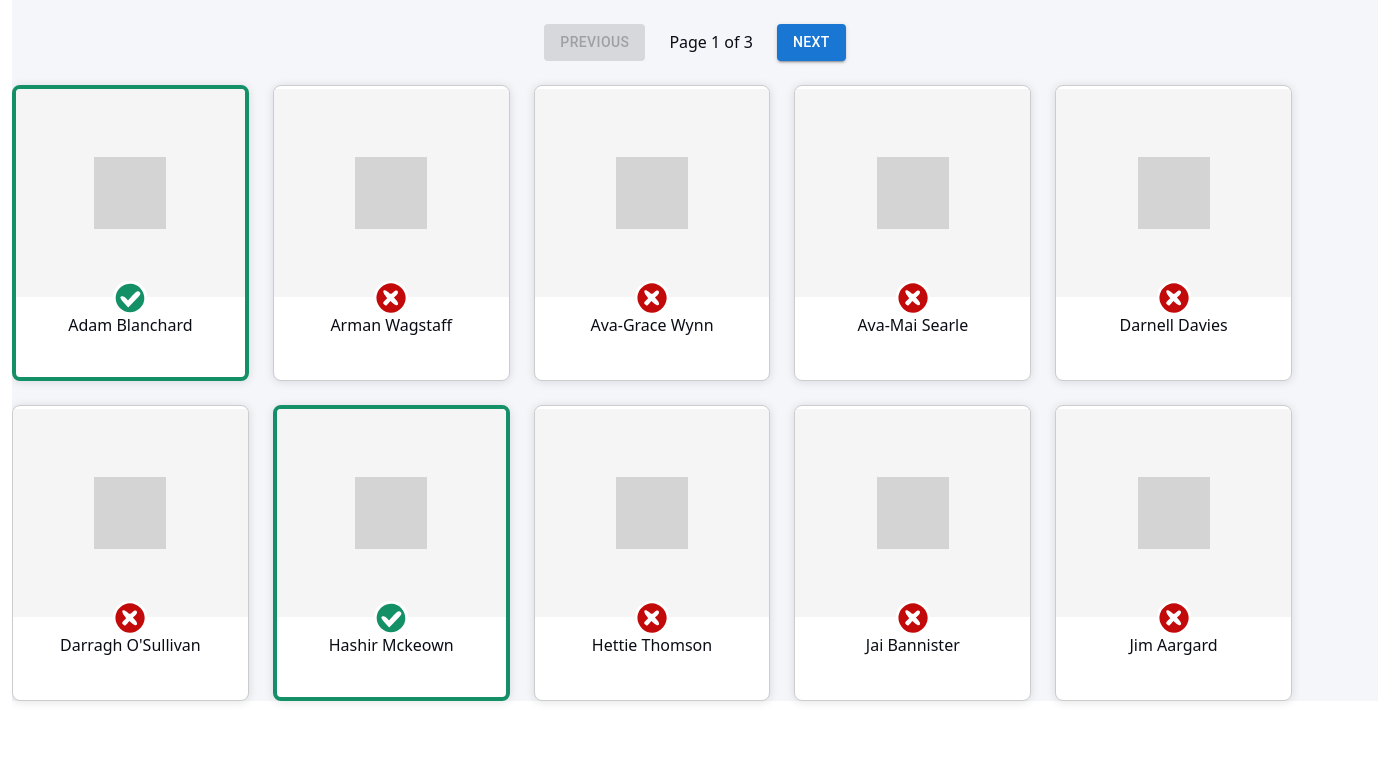
ChildrenGrid › handles pagination correctly
The image size is (1378, 768).
Expected: the text "Page 1 of 3" is shown, x1=669 y1=30 x2=753 y2=54
// Test next page
Click the button "next" at coordinates (811, 42), box x1=777 y1=24 x2=846 y2=60
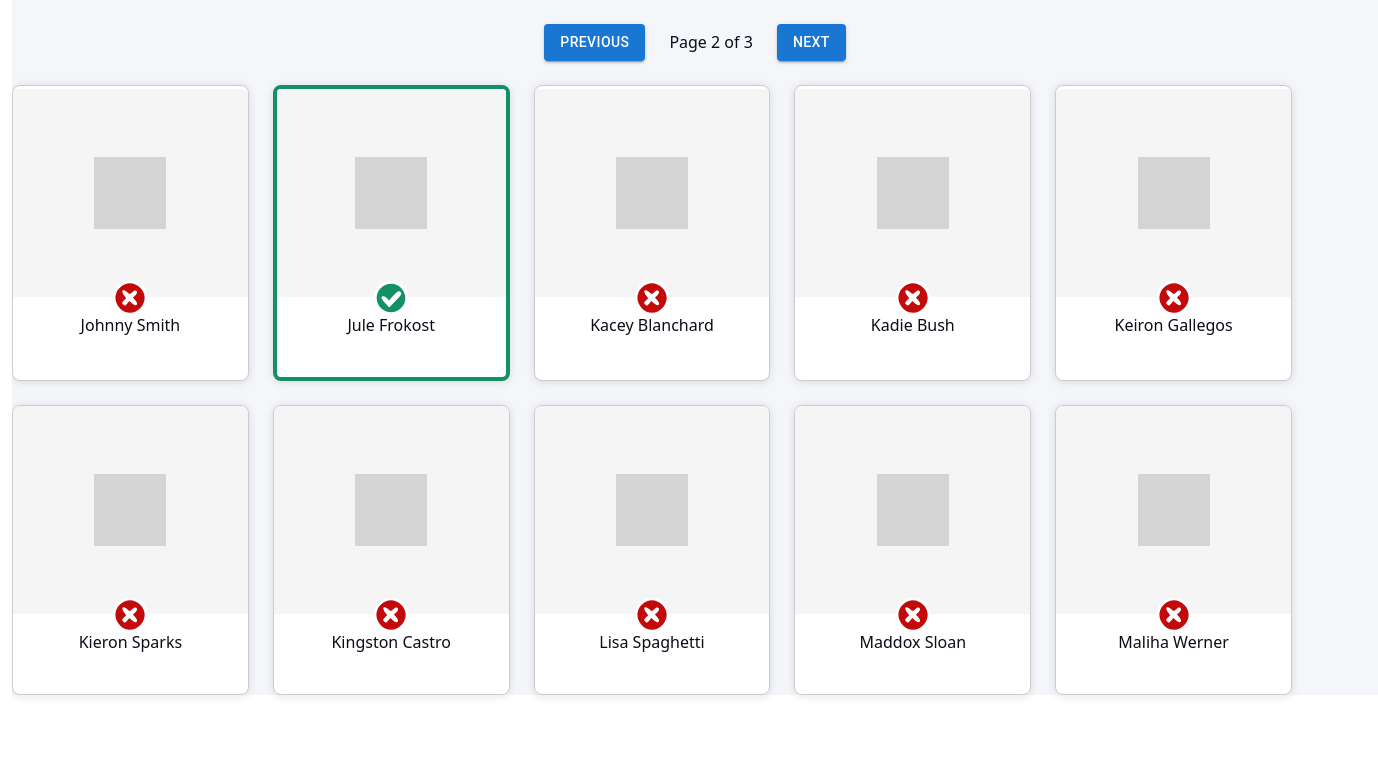
Now the text "Page 2 of 3" is shown, box x1=669 y1=30 x2=753 y2=54
// Test previous page
Click the button "previous" at coordinates (595, 42), box x1=544 y1=24 x2=645 y2=60
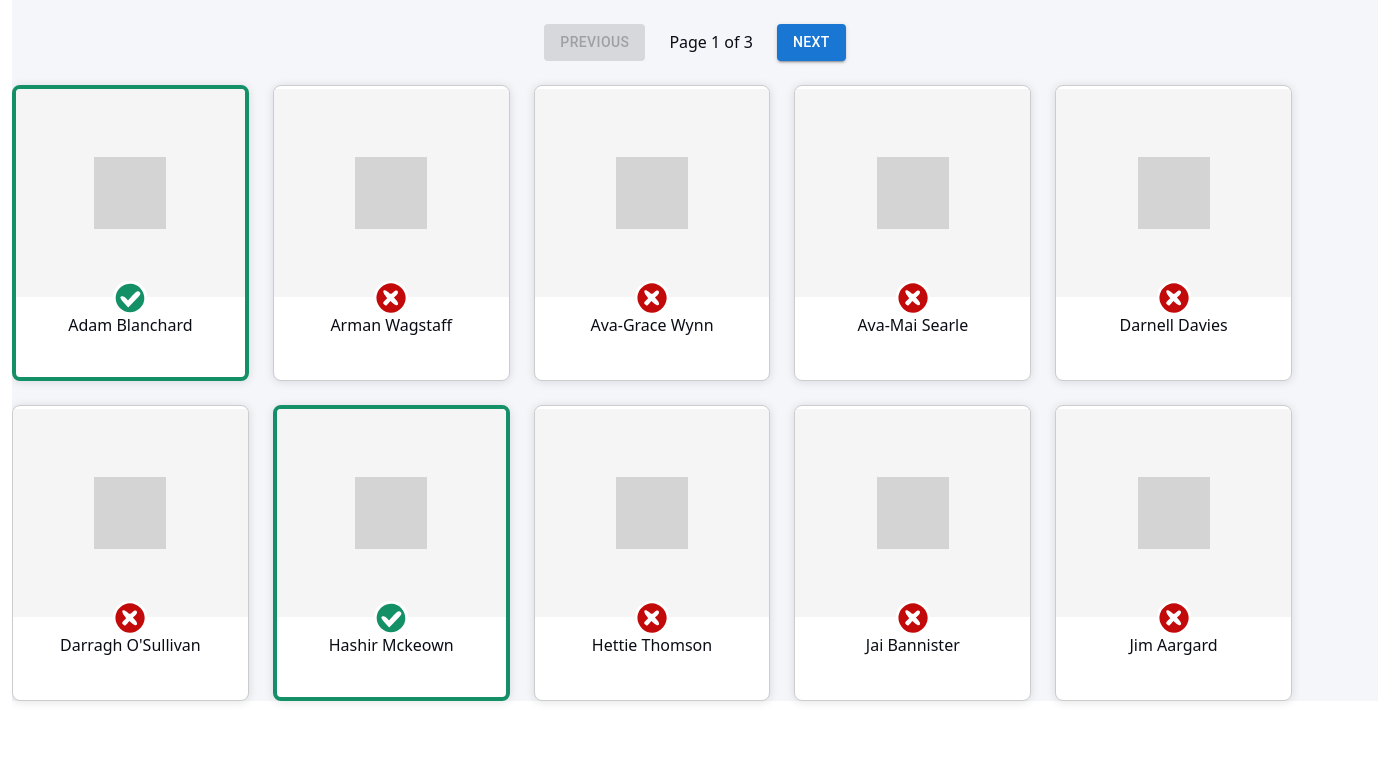
Now the text "Page 1 of 3" is shown, box x1=669 y1=30 x2=753 y2=54
